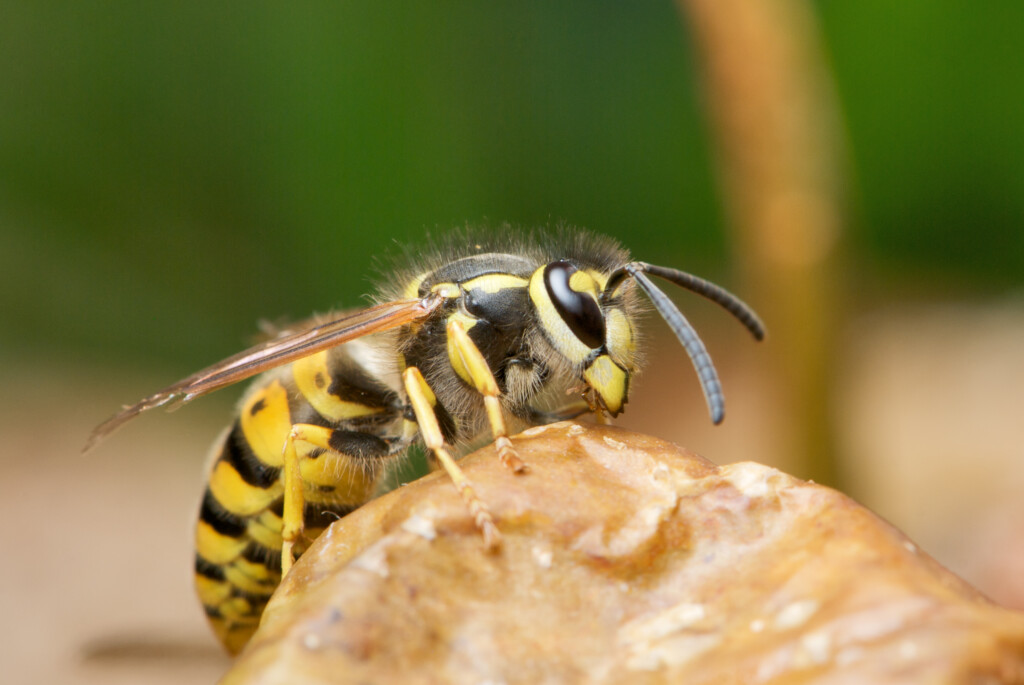chax: (76, 214, 792, 671)
